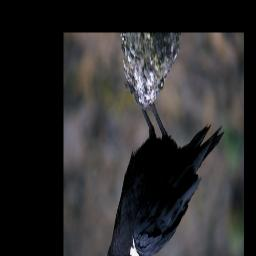Crow: (92, 78, 225, 256)
